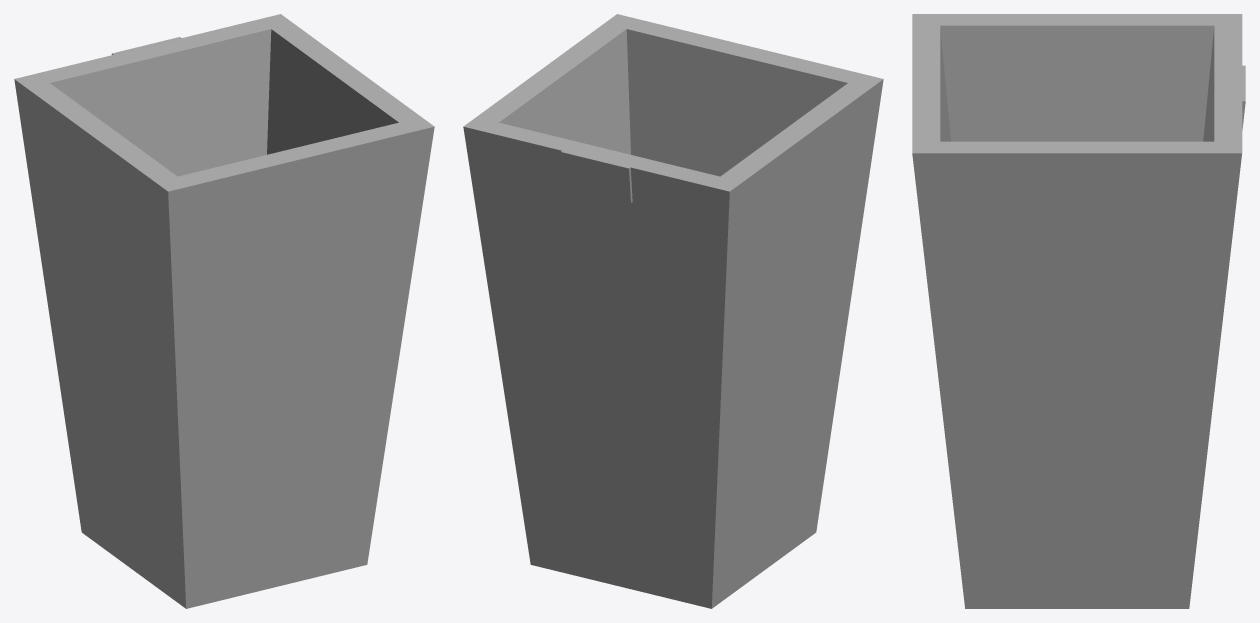
The model's file is Itr_Trashcan1_Body_02.FBX.
3 views of the same model, side by side, from view 1: azimuth 30°, elevation 25°; view 2: azimuth 150°, elevation 25°; view 3: azimuth 270°, elevation 25° (orthographic). The views are drawn at different scales.
Parts seen in each view (by area): view 1: Itr_Trashcan1_Body_02; view 2: Itr_Trashcan1_Body_02; view 3: Itr_Trashcan1_Body_02.
Part boxes in pixels (x1,y1,x2,y2): Itr_Trashcan1_Body_02: (14, 14, 434, 608); Itr_Trashcan1_Body_02: (463, 14, 883, 608); Itr_Trashcan1_Body_02: (912, 14, 1245, 608).
Size of the model in its own units: 14.85 by 23.74 by 15.01.
